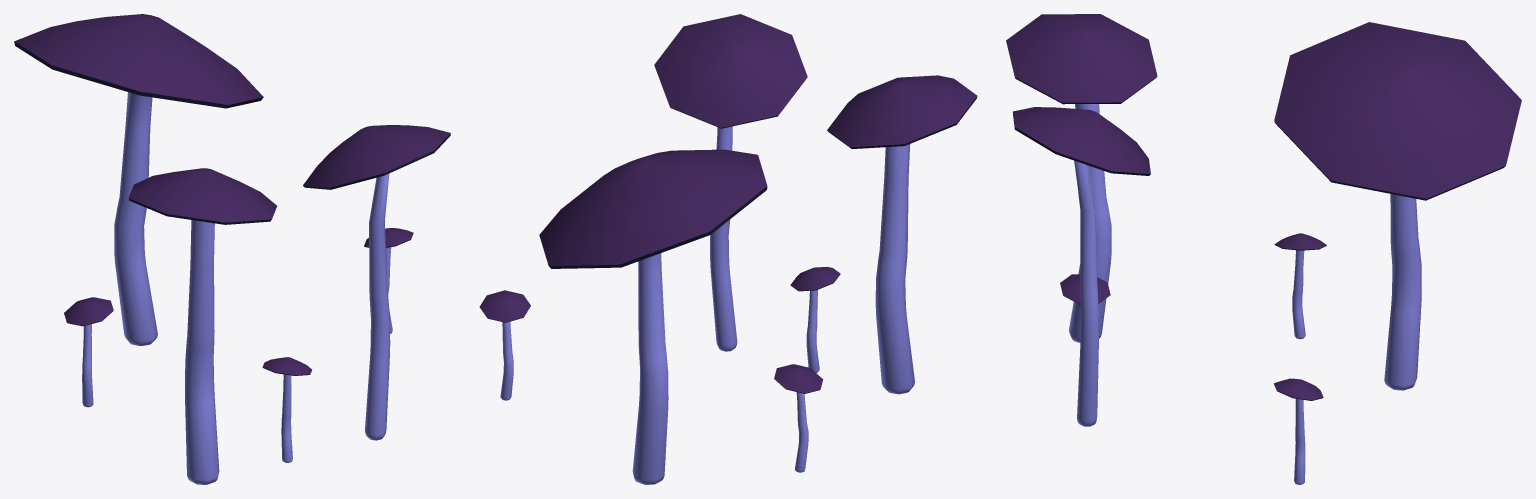
The model's file is SmallMushroom.FBX.
The picture shows the model from 3 angles, left to right: view 1: azimuth 30°, elevation 25°; view 2: azimuth 150°, elevation 25°; view 3: azimuth 270°, elevation 25°; orthographic projection.
Parts seen in each view (by area): view 1: Cylinder001; view 2: Cylinder001; view 3: Cylinder001.
Part boxes in pixels (left/top/right/bottom): Cylinder001: left=14, top=14, right=450, bottom=484; Cylinder001: left=479, top=14, right=977, bottom=484; Cylinder001: left=1006, top=14, right=1521, bottom=484.
Bounding box in the file's own units: 58.86 × 48.1 × 69.06.
